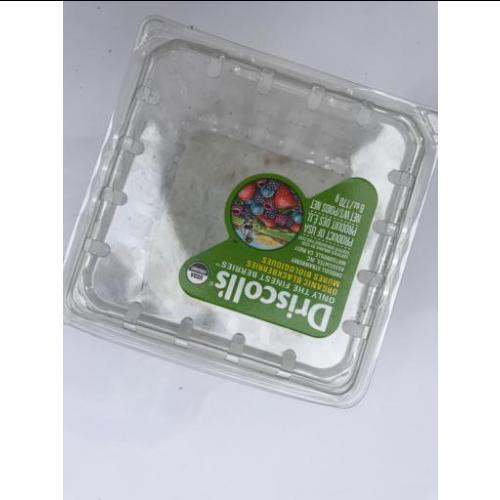plastic: (66, 25, 438, 408)
